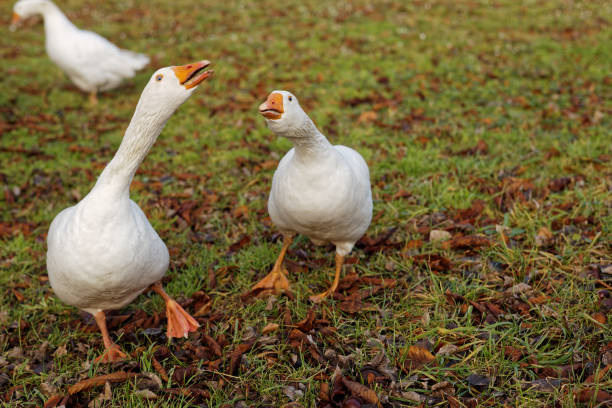goose: (45, 56, 218, 377), (234, 86, 379, 315), (3, 1, 149, 94)
